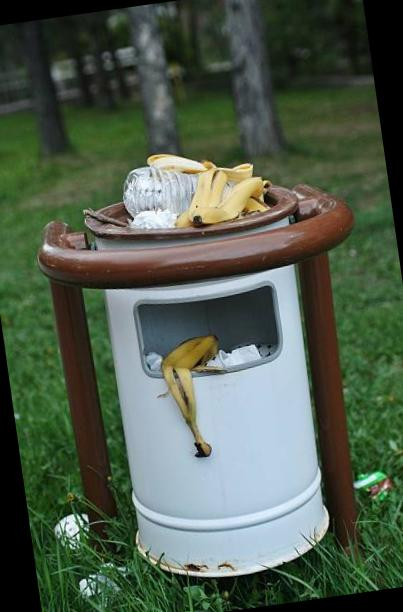trash: (88, 136, 274, 236), (166, 324, 226, 458), (48, 504, 100, 564), (362, 461, 403, 520), (76, 555, 128, 600), (203, 339, 262, 371), (139, 336, 172, 392)
trash_can_overflow: (0, 41, 387, 612)
